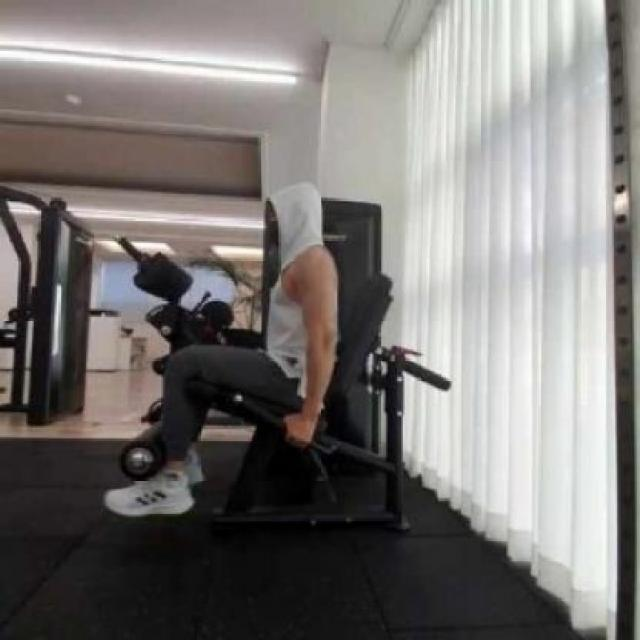leg extension: (93, 174, 464, 561)
